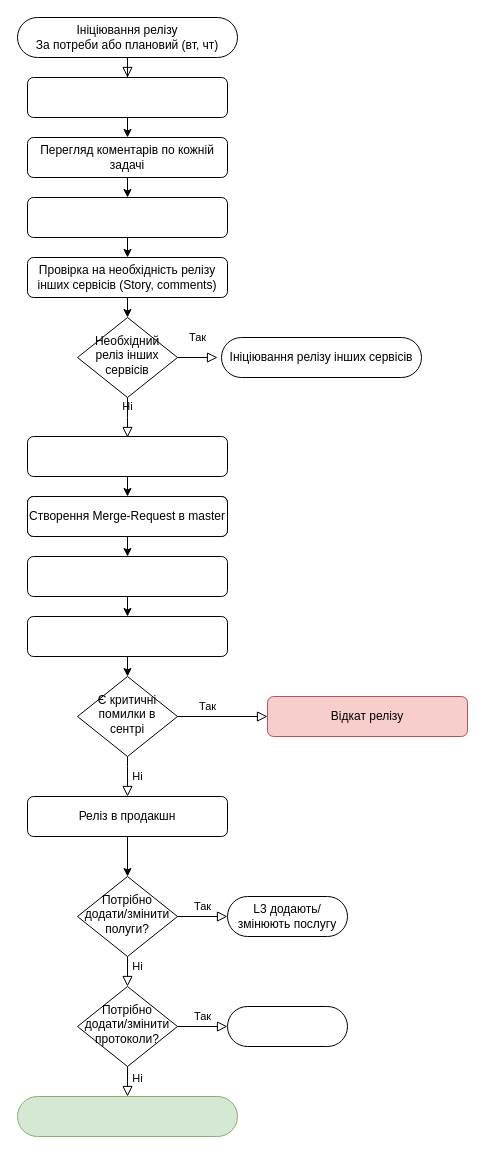
This 485x1154 diagram has some shape labels left out. Here are the shapes that lost their labels. From the top down, the centre of each, then its label:
At (x=127, y=97): "Збір задач в Ready To Release".
At (x=127, y=217): "Ревʼю та мердж задач в dev".
At (x=127, y=456): "Створення нового Тегу".
At (x=127, y=576): "Реліз в препрод (canary 15/ 30%)".
At (x=127, y=636): "Моніторинг сентрі".
At (x=287, y=1026): "L3 додають/змінюють протокол".
At (x=127, y=1116): "Реліз завершено".
